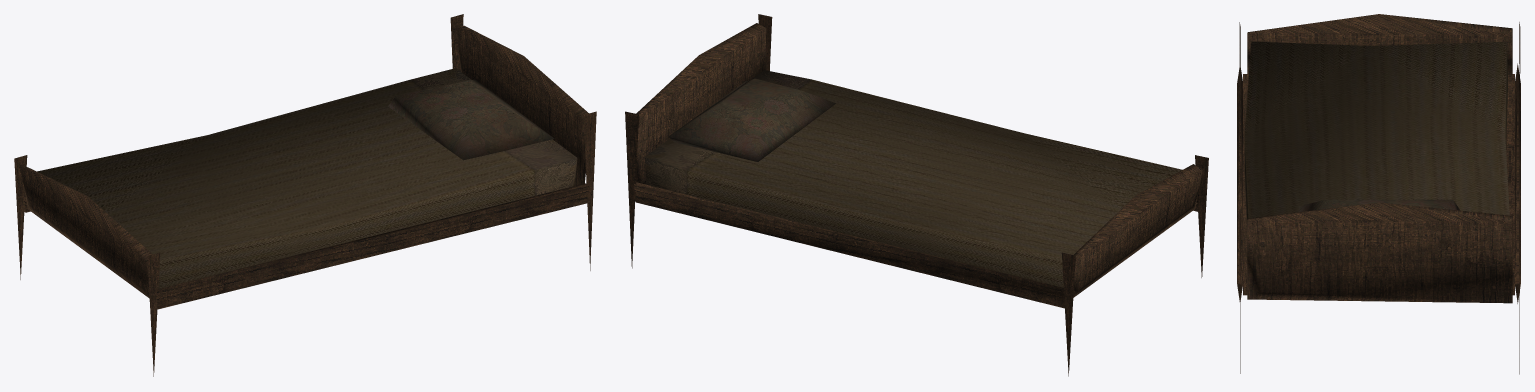
File: bed_5_1.glb
The picture shows the model from 3 angles, left to right: view 1: azimuth 30°, elevation 25°; view 2: azimuth 150°, elevation 25°; view 3: azimuth 270°, elevation 25°; orthographic projection. The views are drawn at different scales.
Visible parts, largest first — view 1: bed_5_1; view 2: bed_5_1; view 3: bed_5_1.
Part boxes in pixels (left/top/right/bottom): bed_5_1: left=14, top=14, right=596, bottom=376; bed_5_1: left=625, top=14, right=1208, bottom=376; bed_5_1: left=1237, top=14, right=1520, bottom=374.
Size of the model in its own units: 2.73 by 0.9696 by 1.42.
3 materials, 3 textured.
